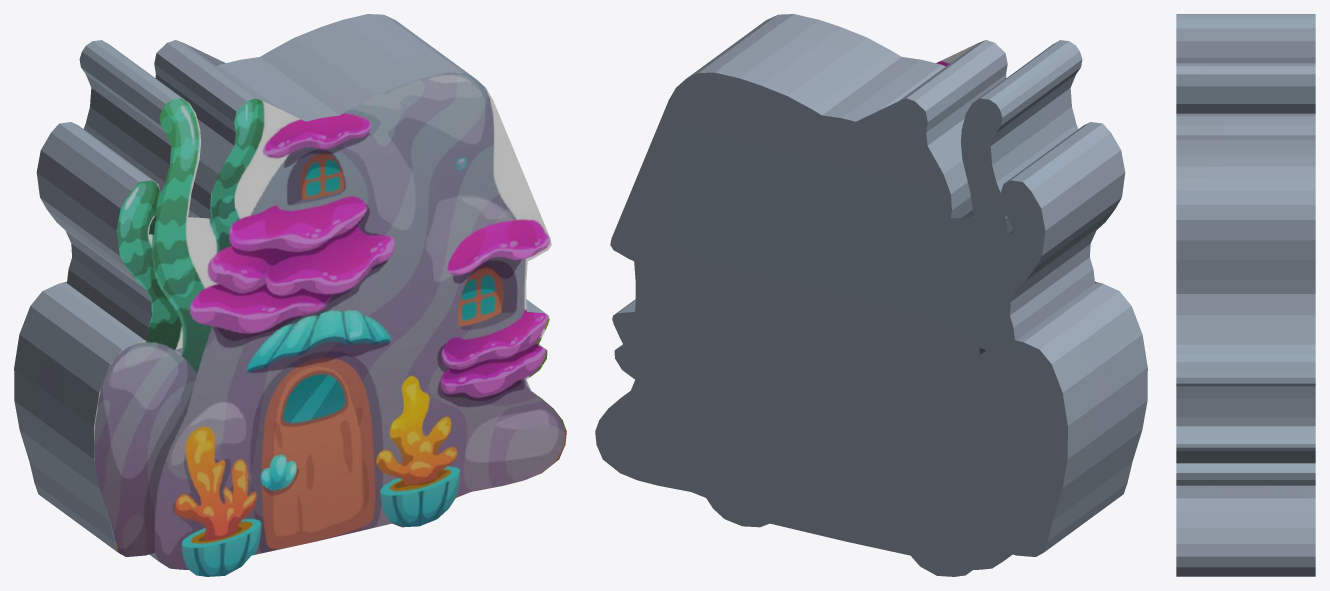
The model's file is underwaterhouseplaceholder.fbx.
3 views of the same model, side by side, from view 1: azimuth 30°, elevation 25°; view 2: azimuth 150°, elevation 25°; view 3: azimuth 270°, elevation 25° (orthographic). The views are drawn at different scales.
Parts seen in each view (by area): view 1: Plane; view 2: Plane; view 3: Plane.
Part boxes in pixels (bbox=[...]): Plane: bbox=[14, 14, 566, 576]; Plane: bbox=[595, 14, 1147, 576]; Plane: bbox=[1176, 14, 1315, 576].
Size of the model in its own units: 243 by 241 by 71.25.
Materials: 1 (1 with a texture image).
